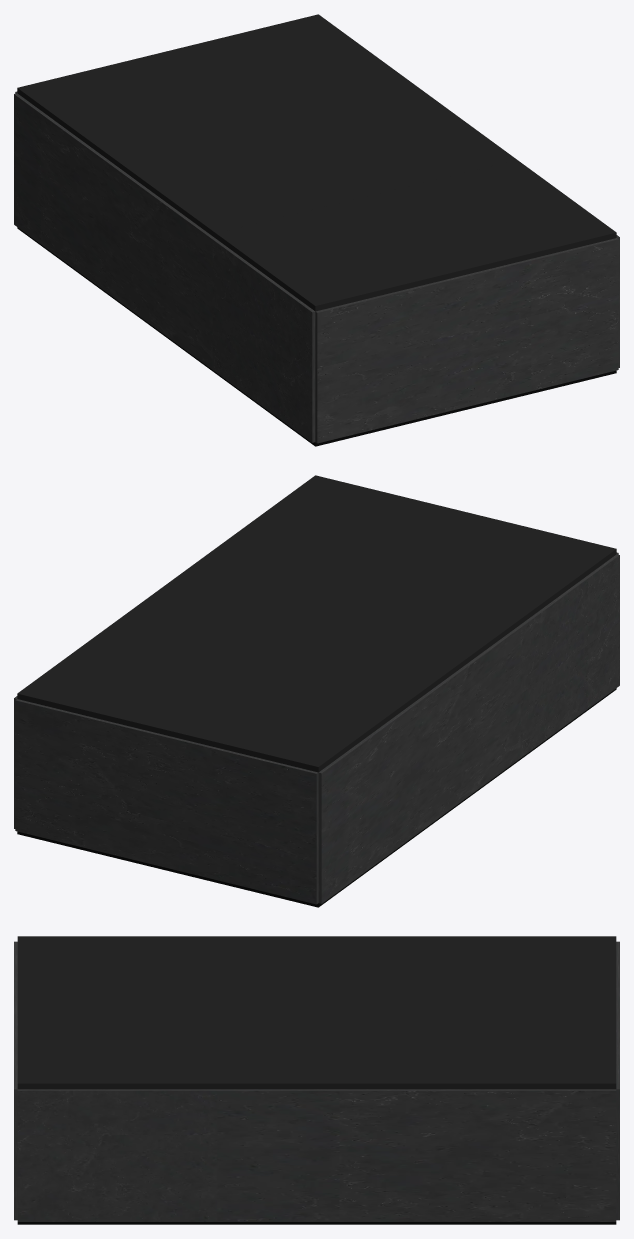
The model's file is danny-gallery-mobile.glb.
The picture shows the model from 3 angles, top to bottom: view 1: azimuth 30°, elevation 25°; view 2: azimuth 150°, elevation 25°; view 3: azimuth 270°, elevation 25°; orthographic projection.
Parts seen in each view (by area): view 1: ARCH_Ceiling, DEMO_Wall, DEMO_Ceiling, ARCH_Wall, DEMO_Floor; view 2: ARCH_Wall, ARCH_Ceiling, DEMO_Ceiling, DEMO_Wall, ARCH_Floor; view 3: ARCH_Ceiling, ARCH_Wall, DEMO_Ceiling, DEMO_Wall, ARCH_Floor, DEMO_Floor.
Part boxes in pixels (left/top/right/bottom): ARCH_Ceiling: left=17, top=14, right=516, bottom=238; DEMO_Wall: left=212, top=235, right=619, bottom=443; DEMO_Ceiling: left=216, top=160, right=616, bottom=311; ARCH_Wall: left=14, top=91, right=215, bottom=369; DEMO_Floor: left=216, top=370, right=616, bottom=446; ARCH_Wall: left=14, top=627, right=520, bottom=904; ARCH_Ceiling: left=17, top=548, right=517, bottom=772; DEMO_Ceiling: left=216, top=475, right=616, bottom=626; DEMO_Wall: left=518, top=552, right=619, bottom=757; ARCH_Floor: left=17, top=761, right=517, bottom=907; ARCH_Ceiling: left=217, top=936, right=616, bottom=1089; ARCH_Wall: left=217, top=941, right=619, bottom=1221; DEMO_Ceiling: left=17, top=936, right=217, bottom=1089; DEMO_Wall: left=14, top=941, right=217, bottom=1221; ARCH_Floor: left=217, top=1222, right=616, bottom=1224; DEMO_Floor: left=17, top=1222, right=217, bottom=1224.
Size of the model in its own units: 14.3 by 6.24 by 24.3.
31 materials, 14 textured.
